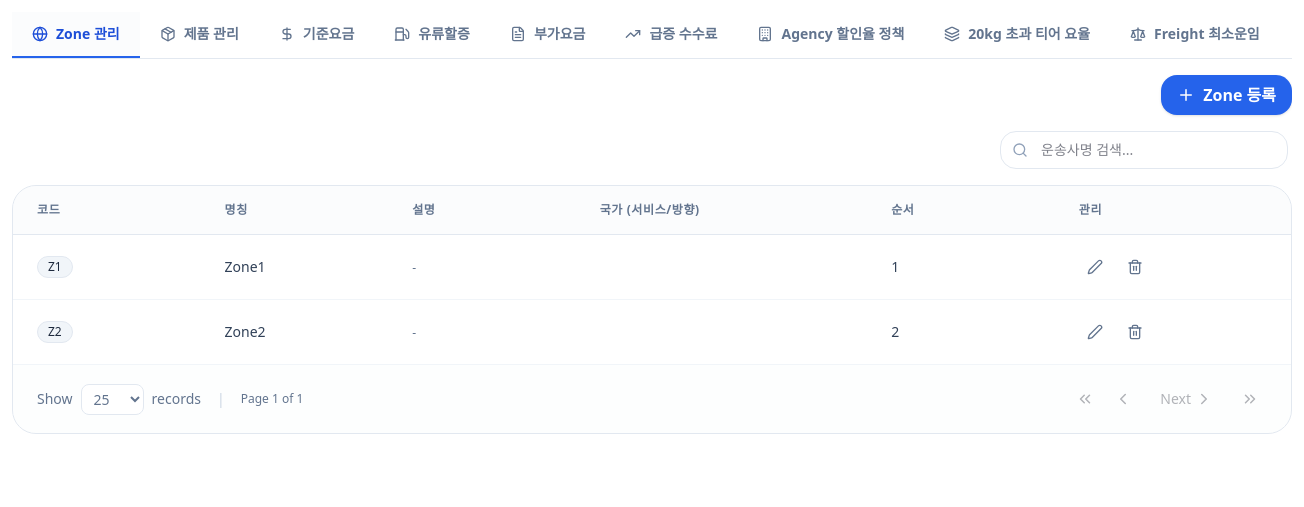
Test: TC-UPS-RATES-PIVOT-01: AgencyPolicyTable (agency_org_id, cargo_type) pivot › 적용서비스 컬럼이 cargo_type별 파생 텍스트를 표시한다
Step 1. Click the button "Agency 할인율 정책" → (831, 35), box [738,12,924,58]
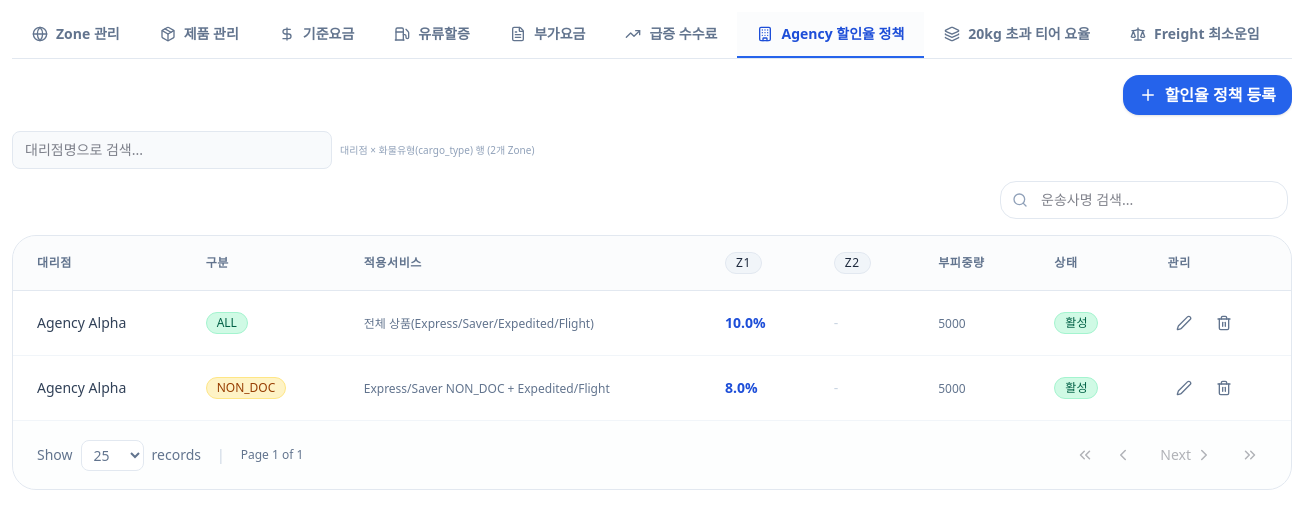
Expected: the text "Agency Alpha" is shown 2 times, [37,313,126,332]; [37,378,126,397]
Expected: the text "전체 상품(Express/Saver/Expedited/Flight)" is shown, [364,315,594,332]
Expected: the text "Express/Saver NON_DOC + Expedited/Flight" is shown, [364,380,610,397]
